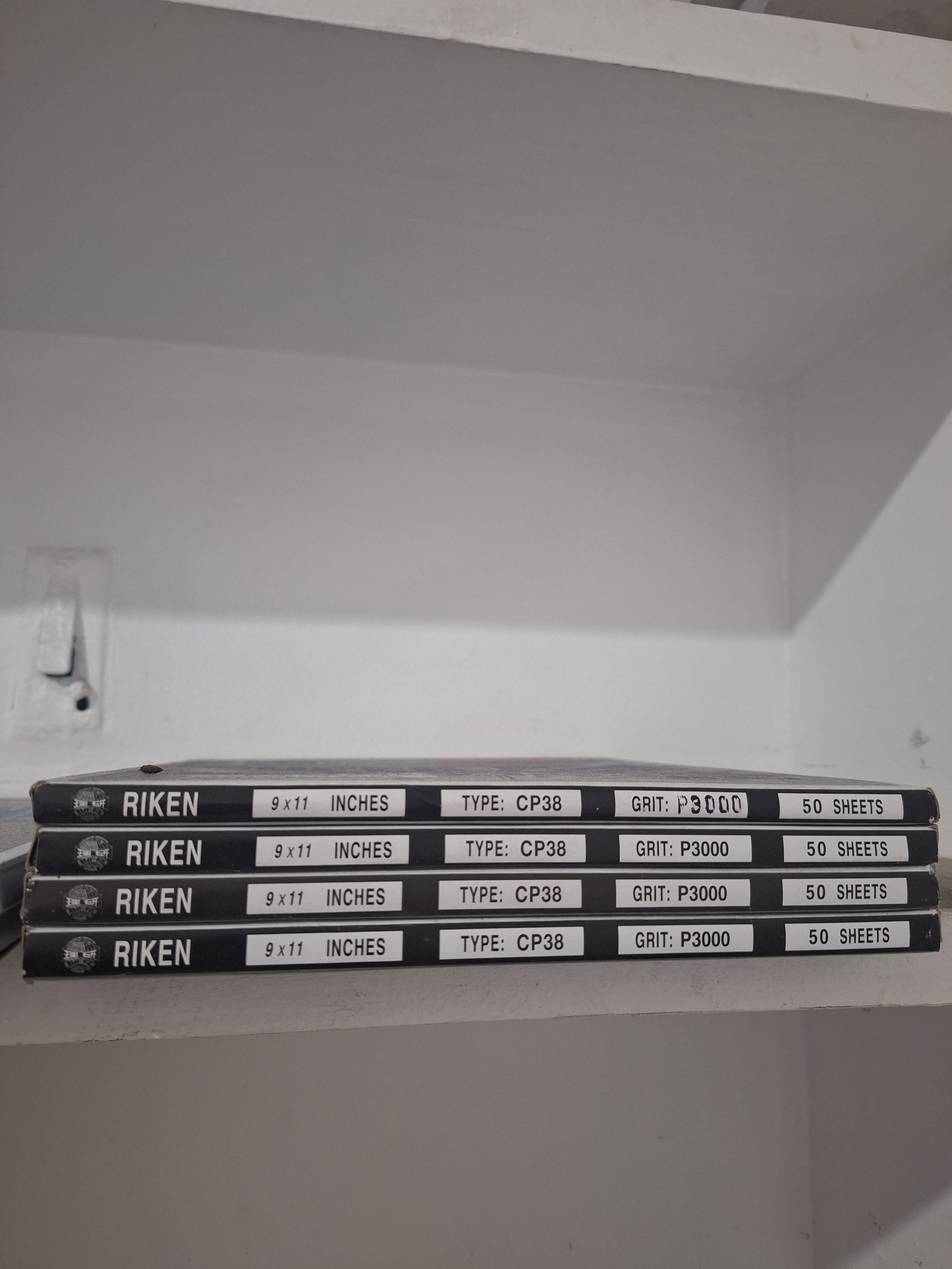grao: (607, 775, 755, 824), (608, 869, 761, 912), (607, 825, 758, 865), (609, 919, 760, 959)
objects: (12, 722, 952, 1000)
